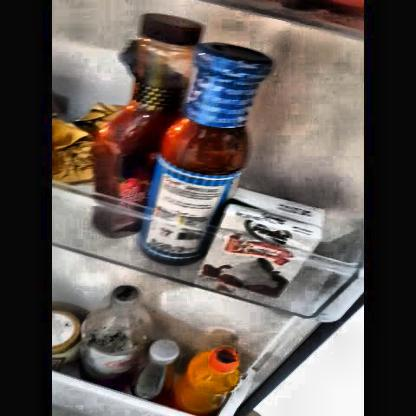heavy_cream: (220, 191, 308, 285)
